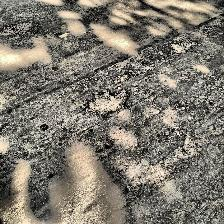pothole: (85, 88, 130, 116), (1, 21, 42, 37)
